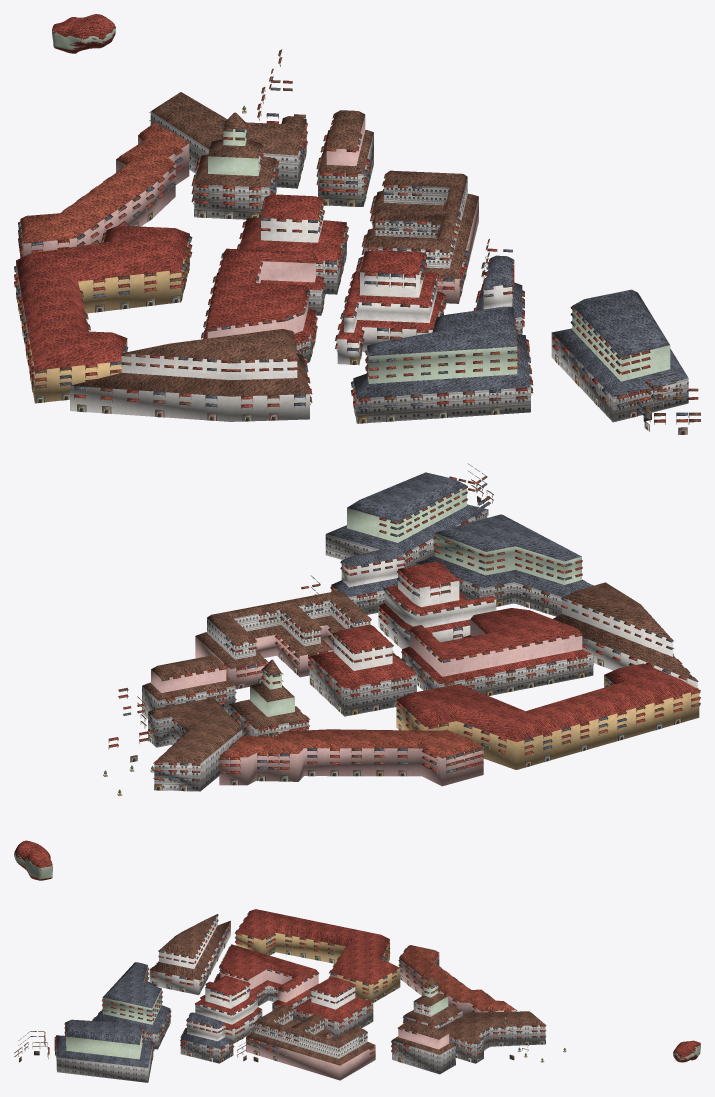
The model's file is City_TownW.fbx.
3 renders of one model, top to bottom at view 1: azimuth 30°, elevation 25°; view 2: azimuth 150°, elevation 25°; view 3: azimuth 270°, elevation 25°, orthographic. The views are drawn at different scales.
Parts seen in each view (by area): view 1: Town_cm1_m2_LOD0, Town_cm1_m1_LOD0; view 2: Town_cm1_m2_LOD0, Town_cm1_m1_LOD0; view 3: Town_cm1_m2_LOD0, Town_cm1_m1_LOD0.
Part boxes in pixels (left/top/right/bottom): Town_cm1_m2_LOD0: left=14, top=170, right=688, bottom=431; Town_cm1_m1_LOD0: left=18, top=14, right=373, bottom=257; Town_cm1_m2_LOD0: left=195, top=472, right=700, bottom=769; Town_cm1_m1_LOD0: left=14, top=655, right=483, bottom=880; Town_cm1_m2_LOD0: left=30, top=909, right=400, bottom=1082; Town_cm1_m1_LOD0: left=391, top=945, right=700, bottom=1074.
Size of what is drawn, in the model's own units: 48.34 by 9.78 by 91.54.
16 materials, 16 textured.
